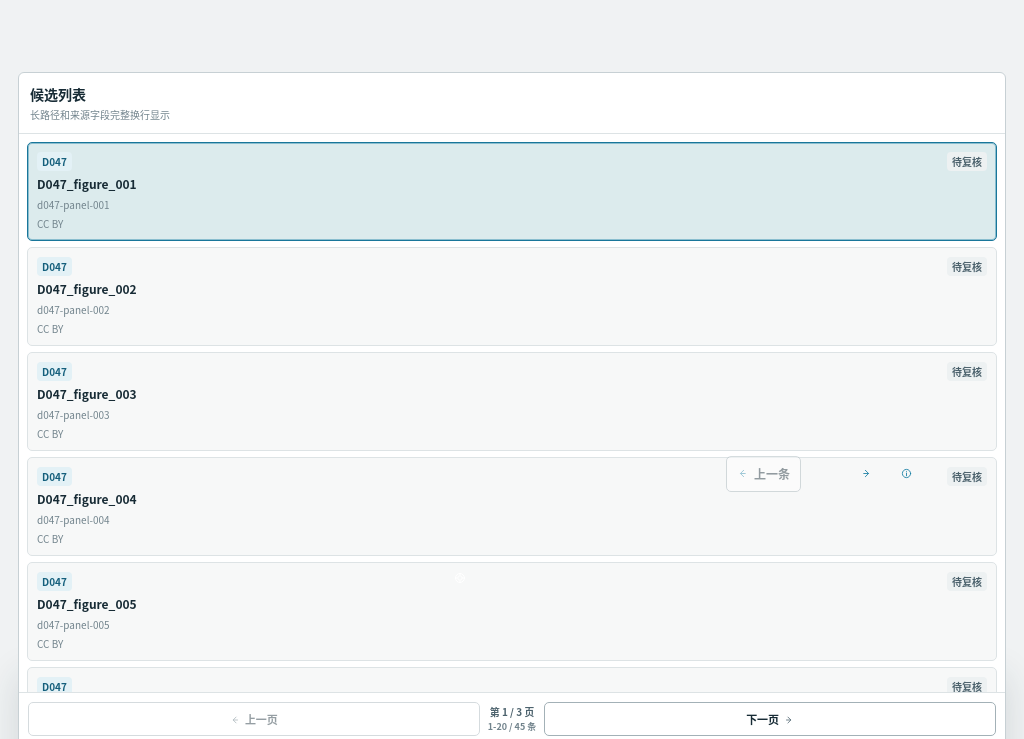
Scenario: DatasetReviewPage › renders a bounded page of long review queues and enforces page boundaries
(page scrolled)
Expected: the button with class "record-item" shows "D047_figure_001", x1=27 y1=142 x2=997 y2=241
Expected: the navigation bar named "候选列表分页" shows "第 1 / 3 页", x1=490 y1=704 x2=534 y2=719
What coordinates should you click on to do the following:
click the button "下一页"
I would click on:
 (770, 719)
Its box is x1=544 y1=702 x2=996 y2=736.
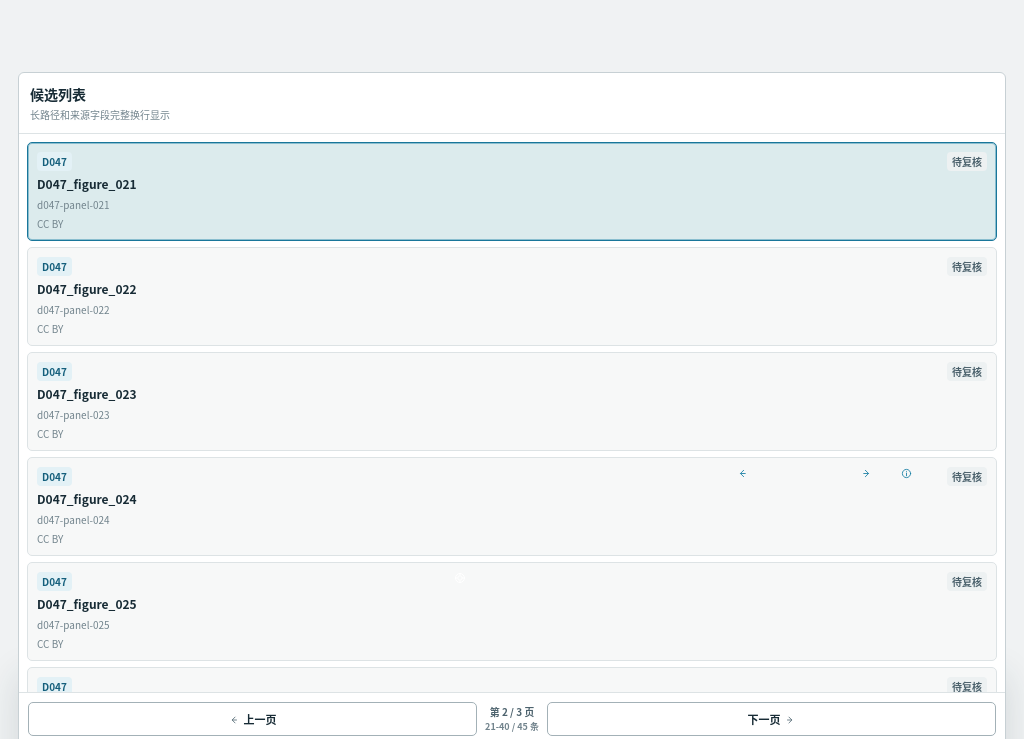
Expected: the button with class "record-item" shows "D047_figure_021", x1=27 y1=142 x2=997 y2=241
Expected: the button with class "selected" shows "D047_figure_021", x1=27 y1=142 x2=997 y2=241
Expected: the navigation bar named "候选列表分页" shows "第 2 / 3 页", x1=490 y1=704 x2=534 y2=719
What coordinates should you click on to do the following:
click the button "下一页"
I would click on:
 (771, 719)
Its box is x1=547 y1=702 x2=996 y2=736.
(page scrolled)
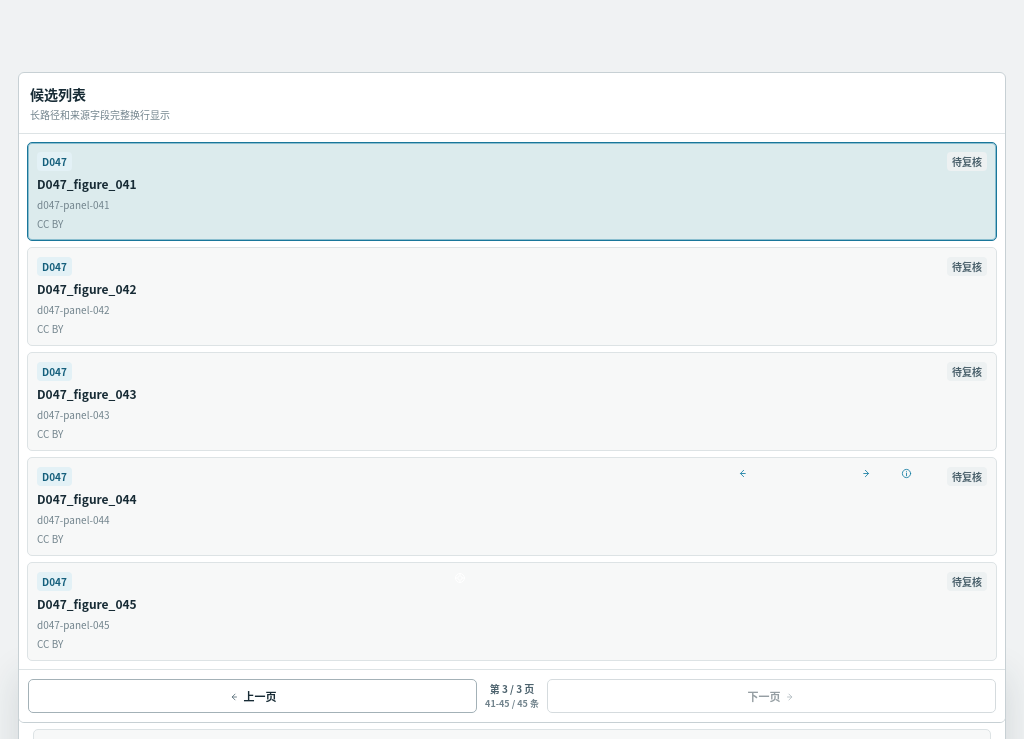
Expected: the number of buttons with class "record-item" is 5, x1=27 y1=142 x2=997 y2=241; x1=27 y1=247 x2=997 y2=346; x1=27 y1=352 x2=997 y2=451; x1=27 y1=457 x2=997 y2=556; x1=27 y1=562 x2=997 y2=661
Expected: the button with class "record-item" shows "D047_figure_041", x1=27 y1=142 x2=997 y2=241
Expected: the navigation bar named "候选列表分页" shows "第 3 / 3 页", x1=490 y1=681 x2=534 y2=696
